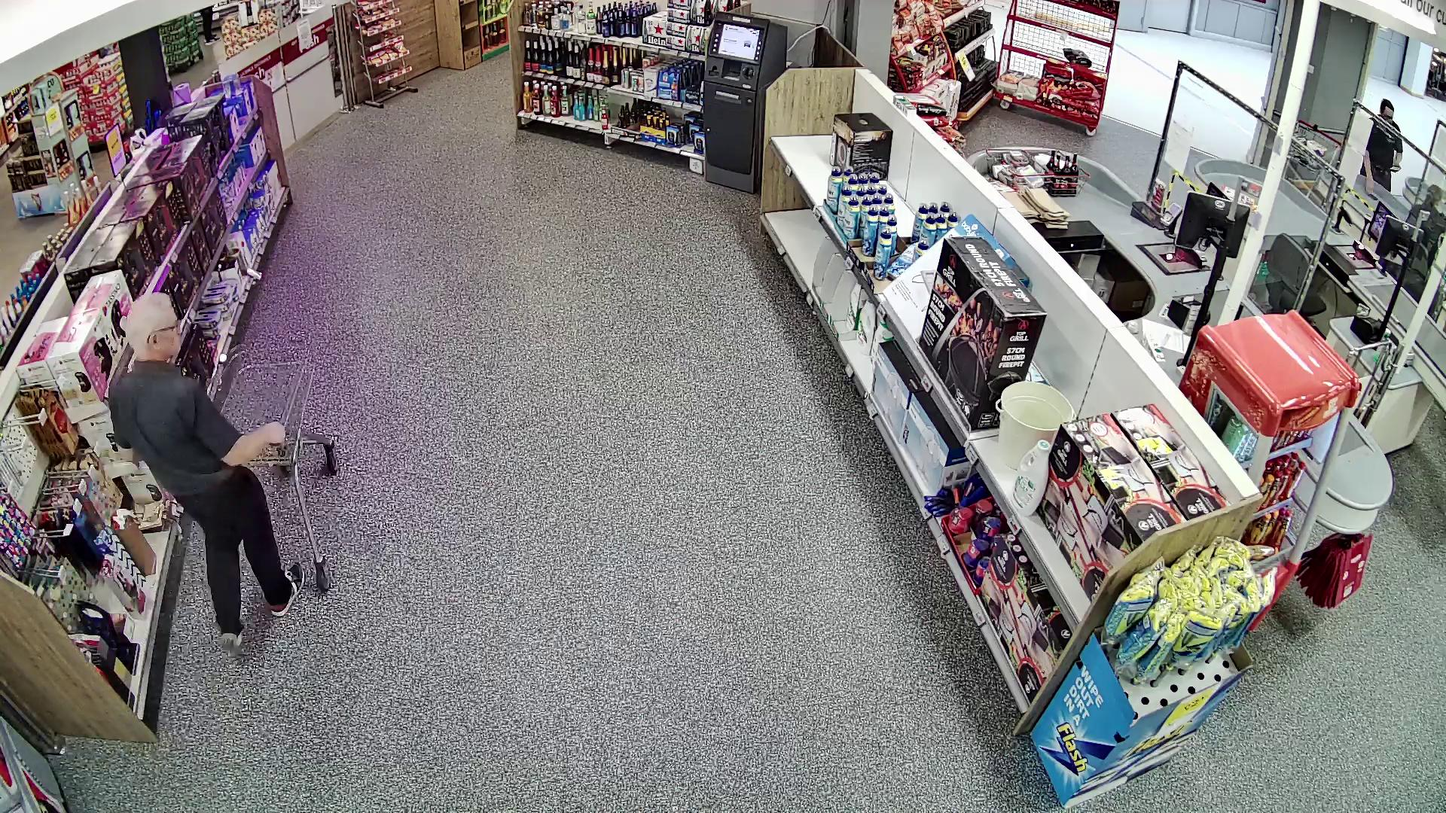empty-trolly: (209, 342, 339, 594)
person: (107, 294, 304, 646)
person-with-empty-basket-trolly: (107, 293, 339, 648)
vacant-checkout-counter: (1021, 188, 1253, 323), (1263, 211, 1428, 319)
